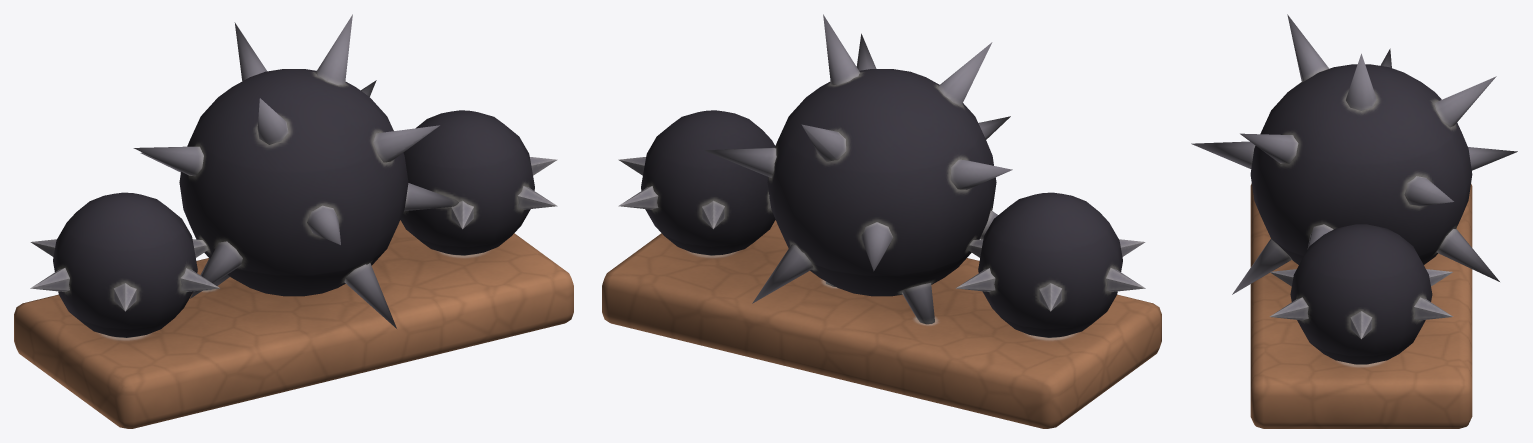
Rendered from sd_obstacle_spiked_ball.glb.
The picture shows the model from 3 angles, left to right: view 1: azimuth 30°, elevation 25°; view 2: azimuth 150°, elevation 25°; view 3: azimuth 270°, elevation 25°; orthographic projection. The views are drawn at different scales.
Visible parts, largest first — view 1: sd_obstacle_spiked_ball; view 2: sd_obstacle_spiked_ball; view 3: sd_obstacle_spiked_ball.
Part boxes in pixels (left/top/right/bottom): sd_obstacle_spiked_ball: left=14, top=14, right=573, bottom=428; sd_obstacle_spiked_ball: left=602, top=14, right=1161, bottom=428; sd_obstacle_spiked_ball: left=1191, top=14, right=1517, bottom=428.
Bounding box in the file's own units: 2.66 × 1.5 × 1.48.
3 materials, 3 textured.
